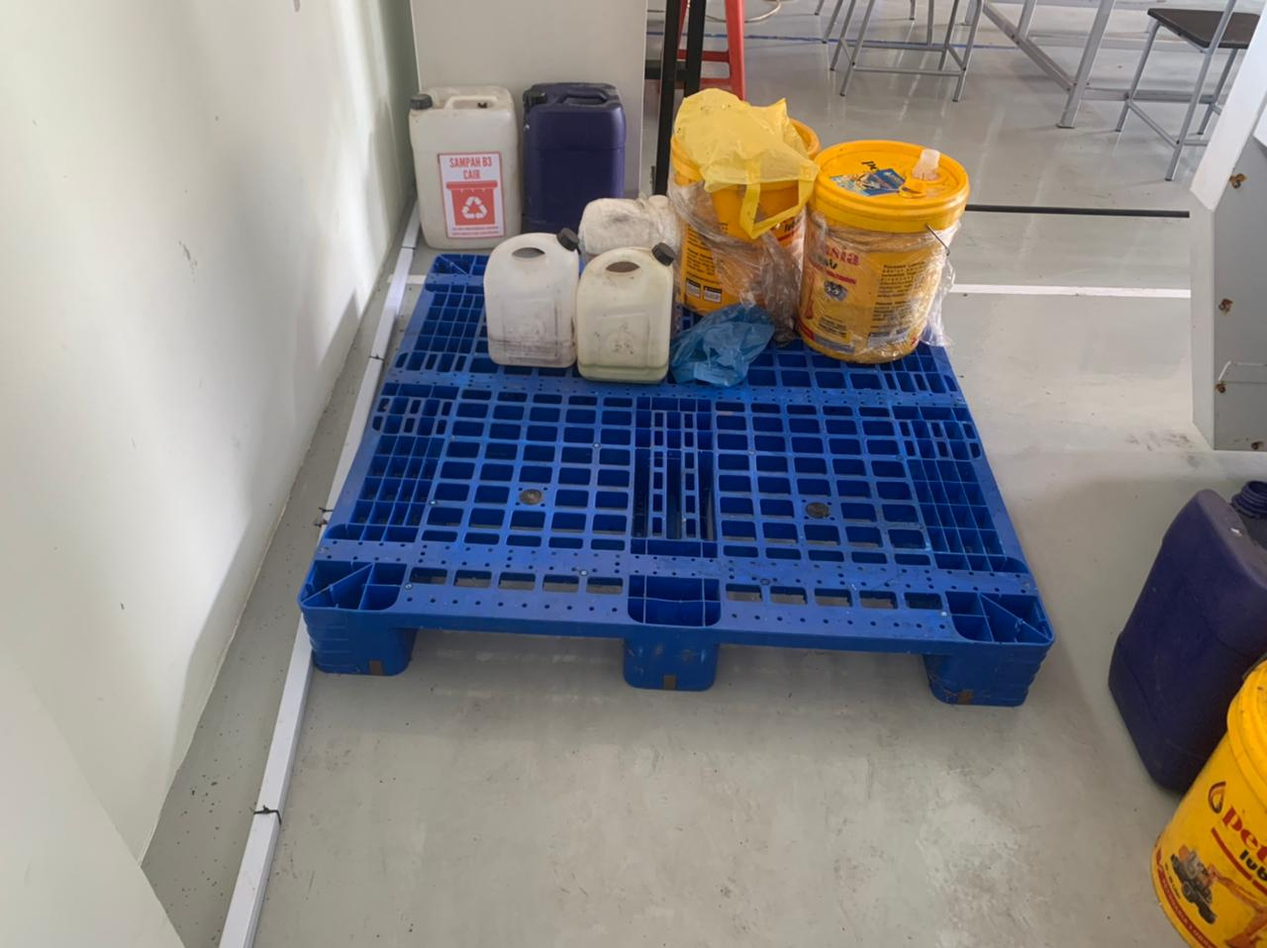block: (932, 639, 1051, 711), (302, 604, 403, 670), (623, 624, 722, 691)
front: (304, 604, 1056, 711)
hole pallet: (399, 625, 635, 681), (715, 645, 945, 697)
